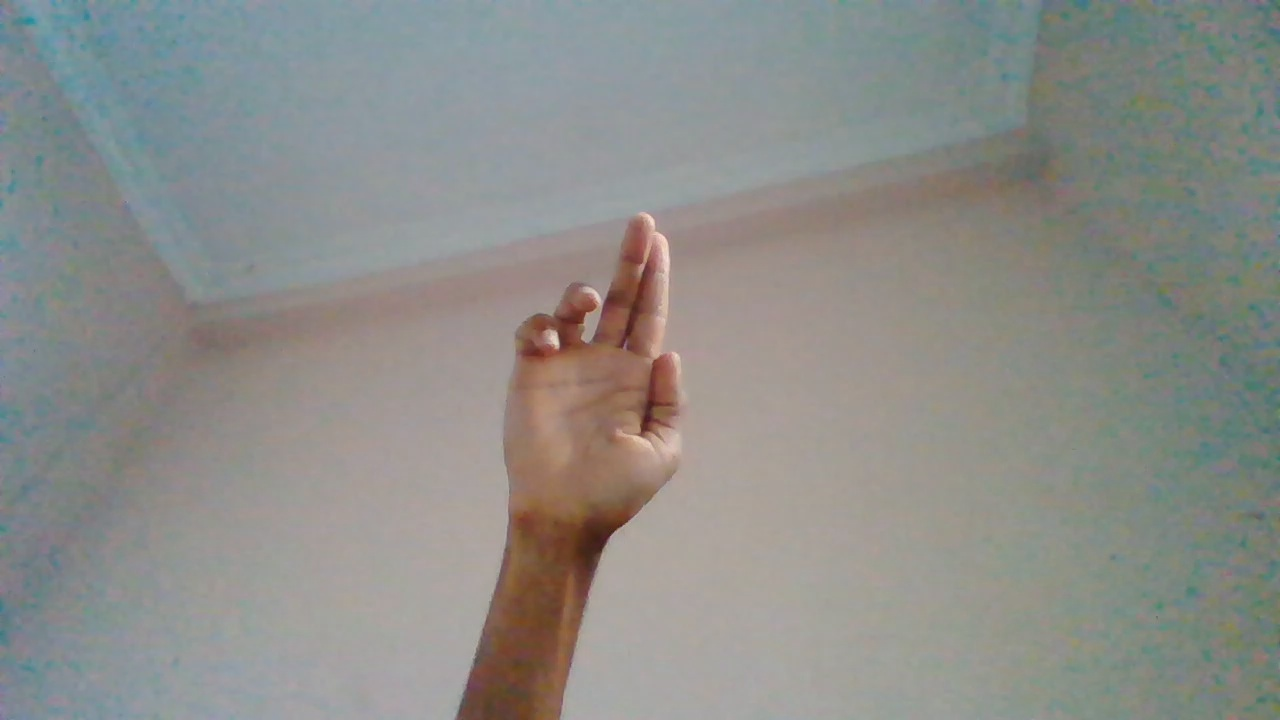gne: (500, 212, 686, 670)
